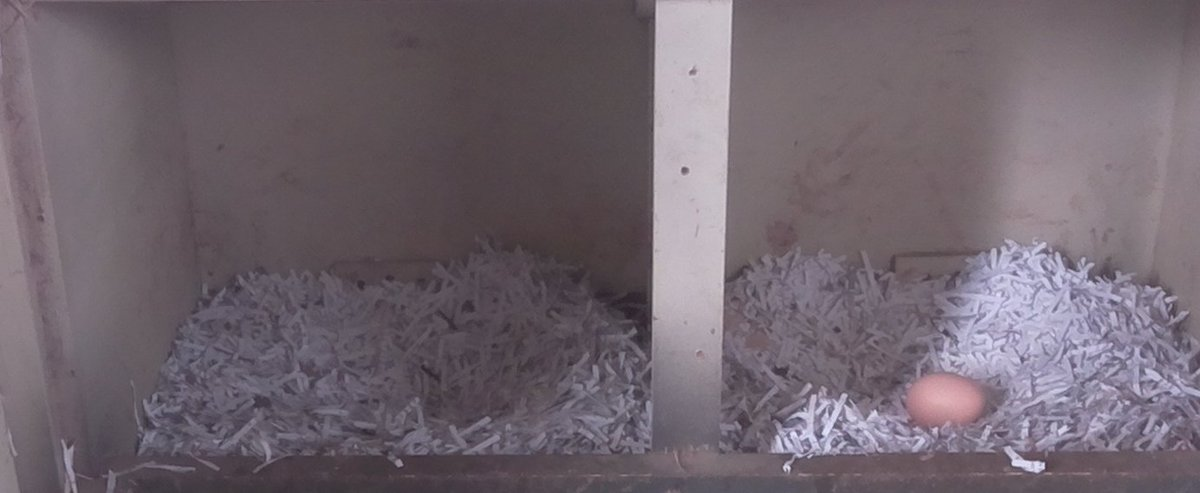egg: (906, 368, 989, 430)
